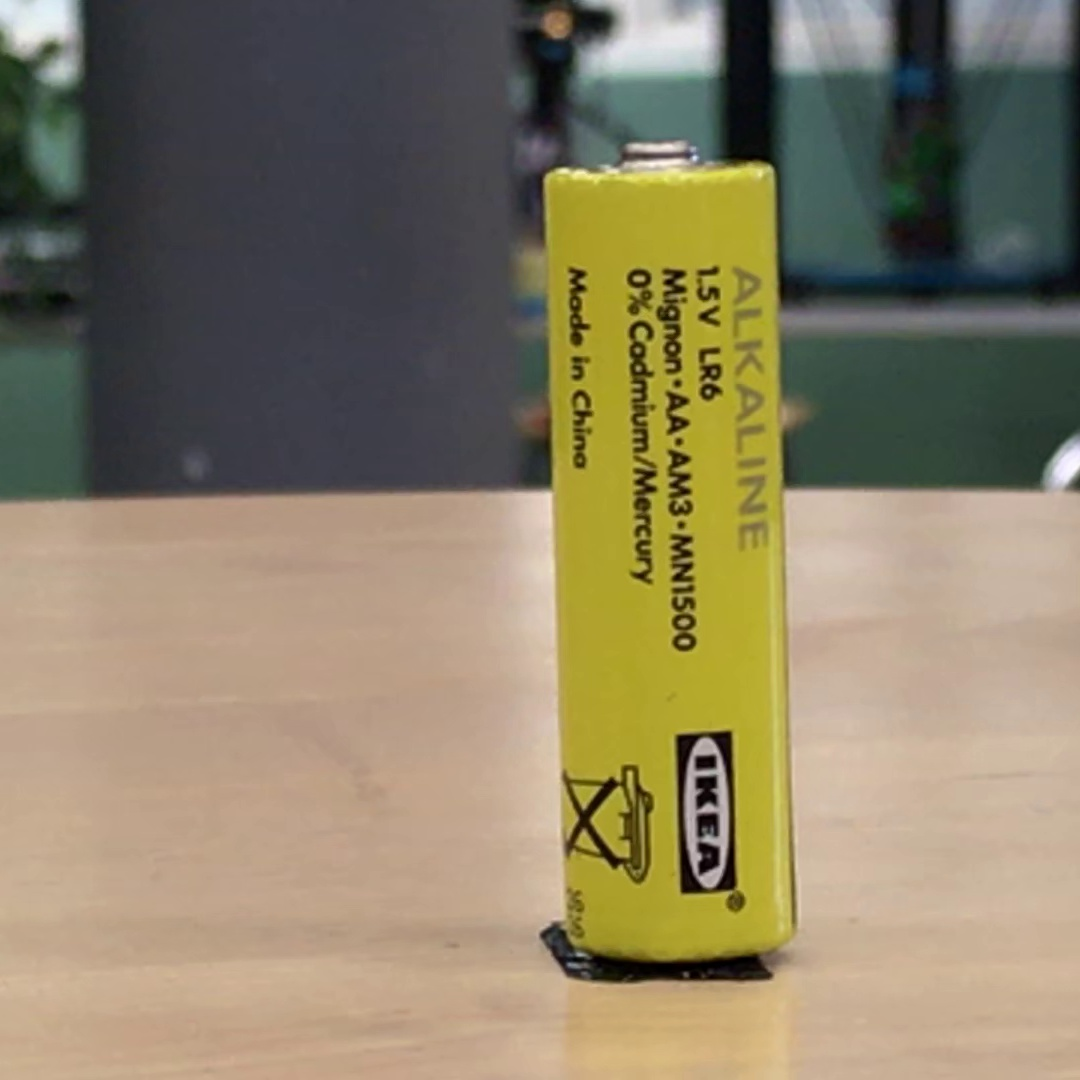keyword: (728, 261, 770, 373), (689, 337, 733, 411)
